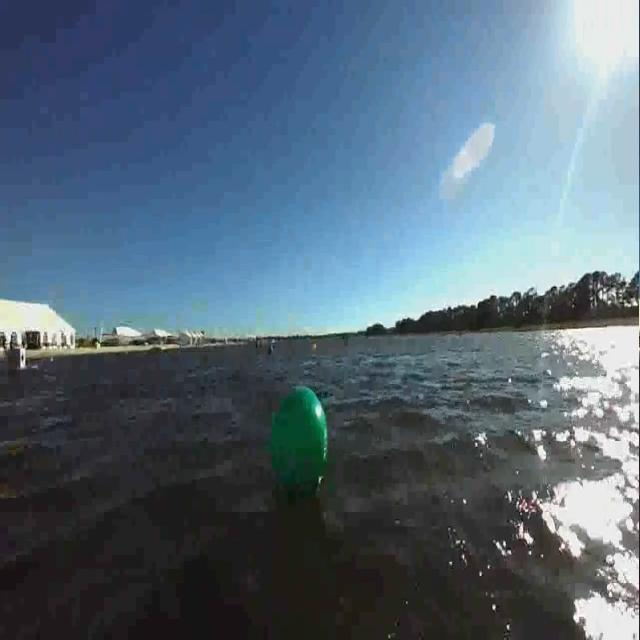blue-buoy: (267, 344, 274, 354)
green-buoy: (269, 385, 330, 503)
yellow-buoy: (312, 340, 318, 356)
